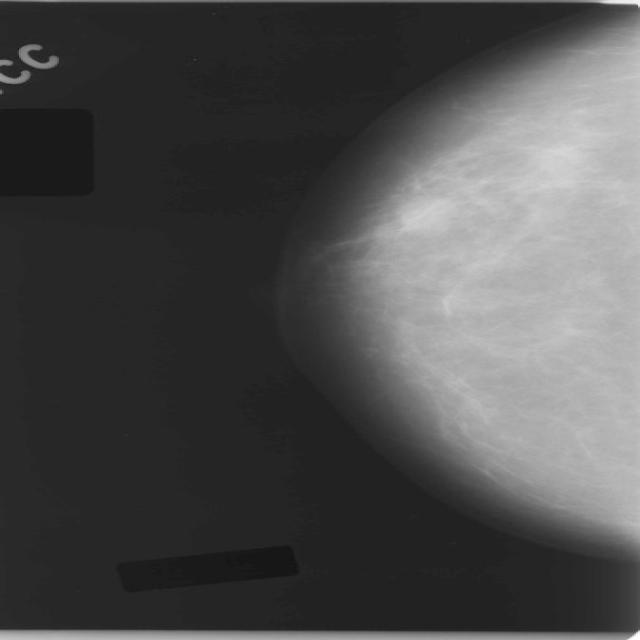tumour: (393, 195, 458, 231)
